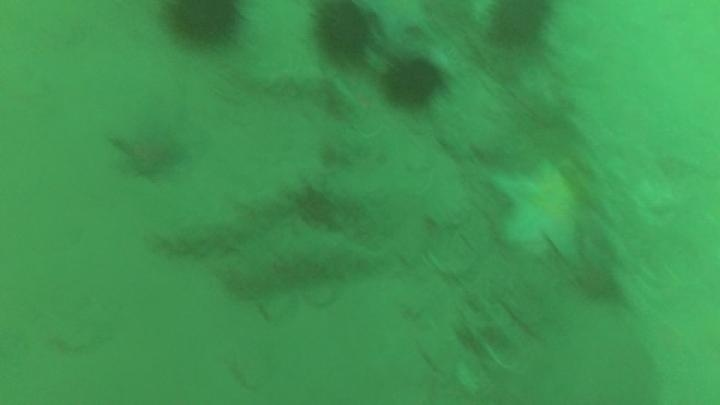echinus: (308, 1, 377, 66), (161, 1, 246, 51), (379, 52, 447, 112), (485, 1, 556, 52)
holothurian: (219, 217, 381, 314)
starfish: (487, 156, 589, 261), (106, 121, 190, 182), (358, 1, 434, 43)
